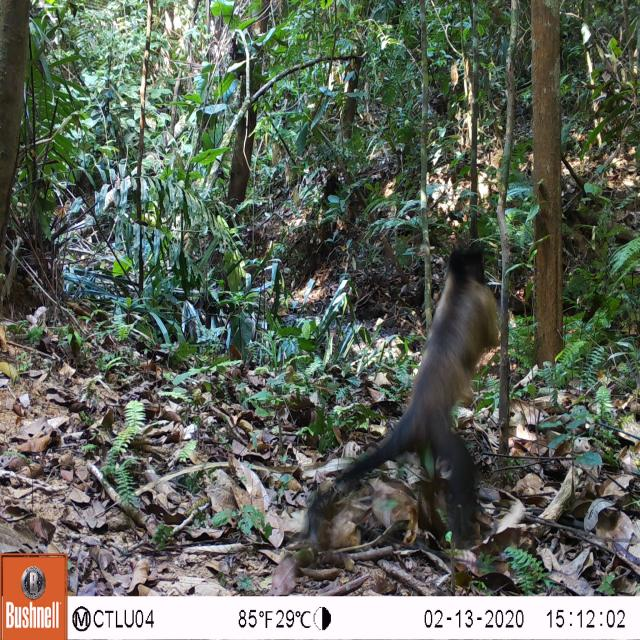Margarita Island Capuchin: (319, 244, 512, 463)
